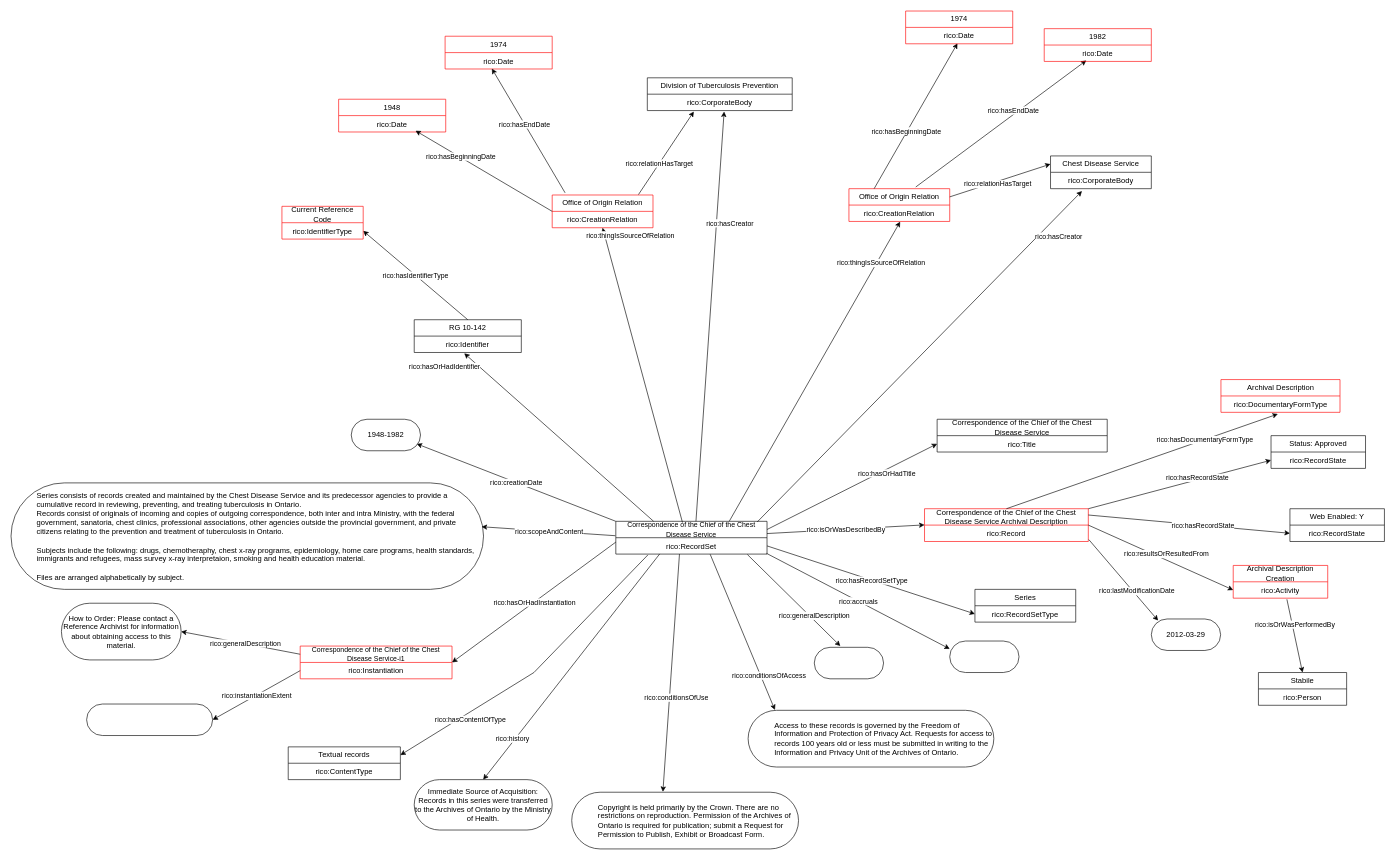
Some shapes in this 1395 by 860 pixel diagram are drawn without their labels. The shapes that lost their labels are listed below. From the top down, each one's centre as x and y in pixels, then its label:
At point (849, 663): "Finding Aid Note: No file list is available.".
At point (984, 656): "No further accruals are expected.".
At point (149, 719): "9.8 metres of textual records (32 Boxes)".
